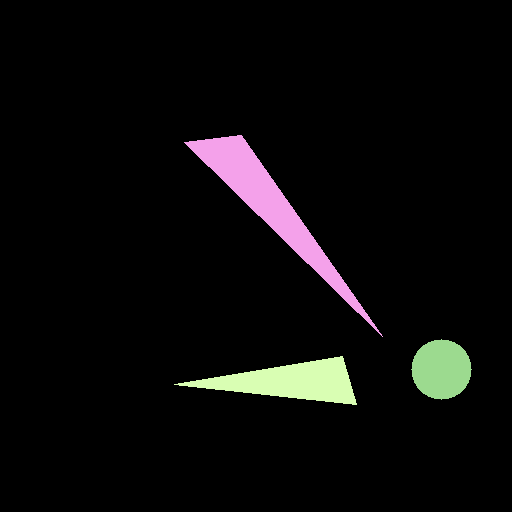circle: (411, 339, 471, 399)
triangle: (184, 135, 382, 336), (174, 356, 356, 404)
